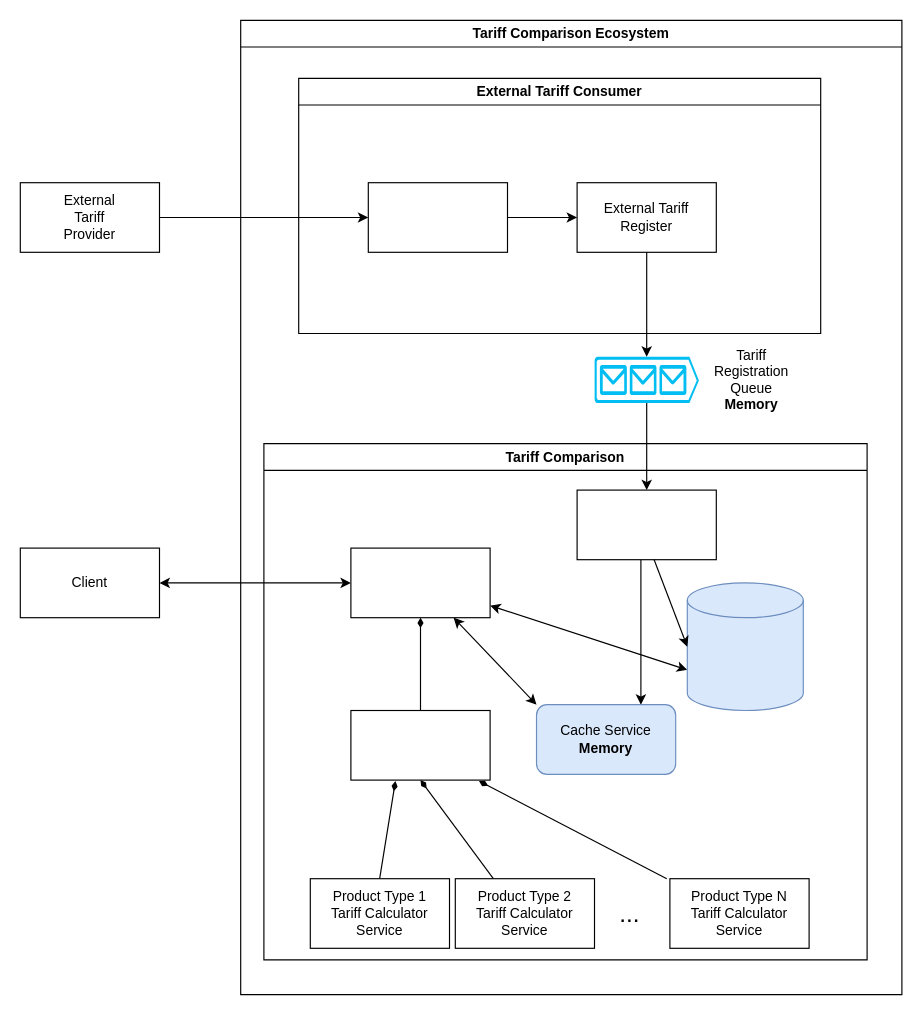
This 922x1015 diagram has some shape labels left out. Here are the shapes that lost their labels. From the top down, the box of each, then its label:
(367, 182, 507, 252): External Tariff Consumer ETL
(576, 489, 716, 560): Tariff Consumer
(350, 547, 490, 618): Tariff Comparison Service
(686, 582, 803, 710): Tariff Database Memory
(350, 709, 490, 780): Tariff Calculator Servicer Factory
